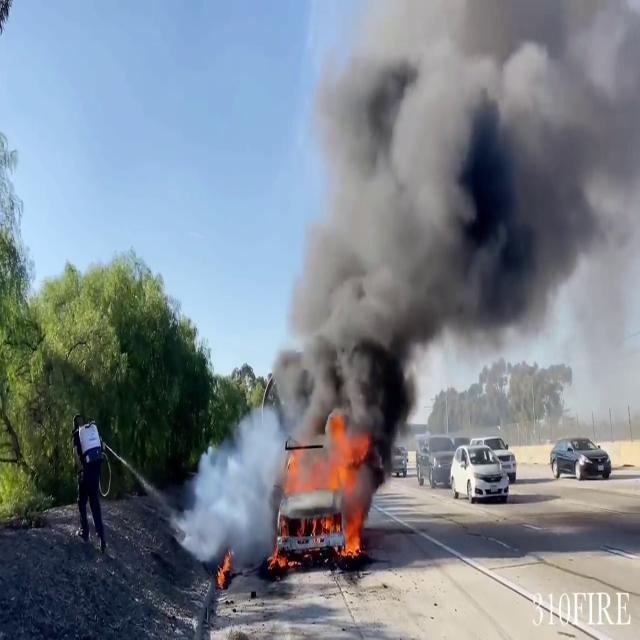Fire: (290, 414, 374, 552)
Smoke: (287, 0, 640, 445), (176, 397, 298, 579)
